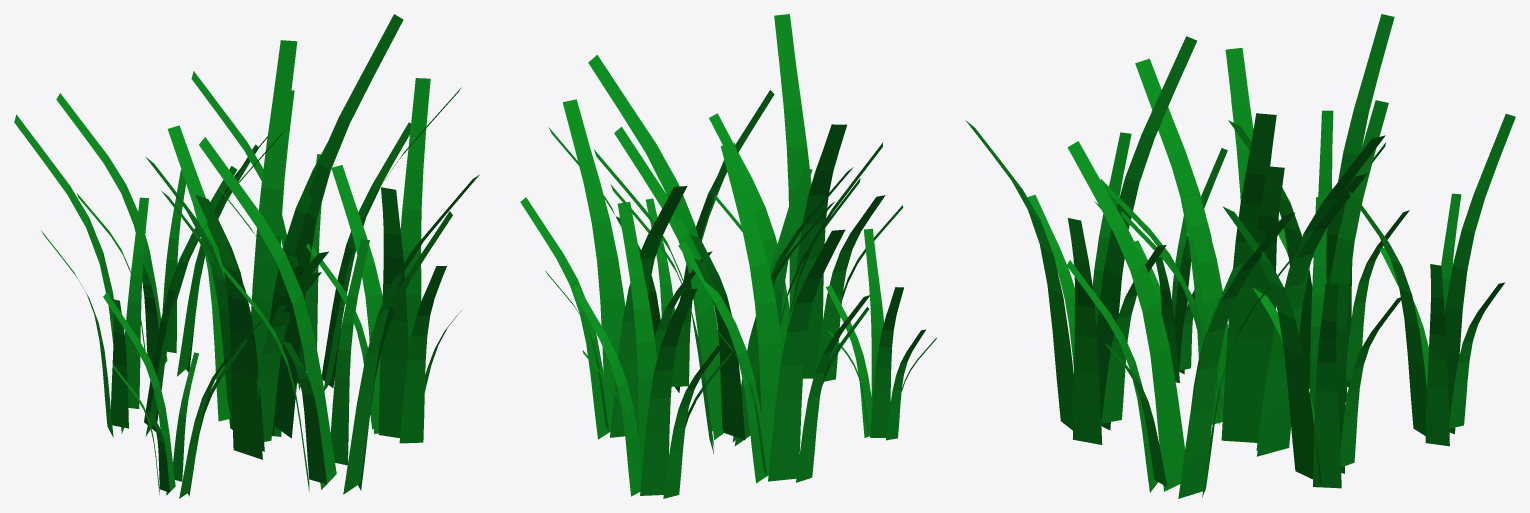
The model's file is grass.fbx.
3 views of the same model, side by side, from view 1: azimuth 30°, elevation 25°; view 2: azimuth 150°, elevation 25°; view 3: azimuth 270°, elevation 25° (orthographic). The views are drawn at different scales.
Parts seen in each view (by area): view 1: 平面; view 2: 平面; view 3: 平面.
Part boxes in pixels (left/top/right/bottom): 平面: left=14, top=14, right=479, bottom=498; 平面: left=520, top=14, right=936, bottom=498; 平面: left=965, top=14, right=1515, bottom=498.
Size of what is drawn, in the model's own units: 66.45 by 65.46 by 80.18.
